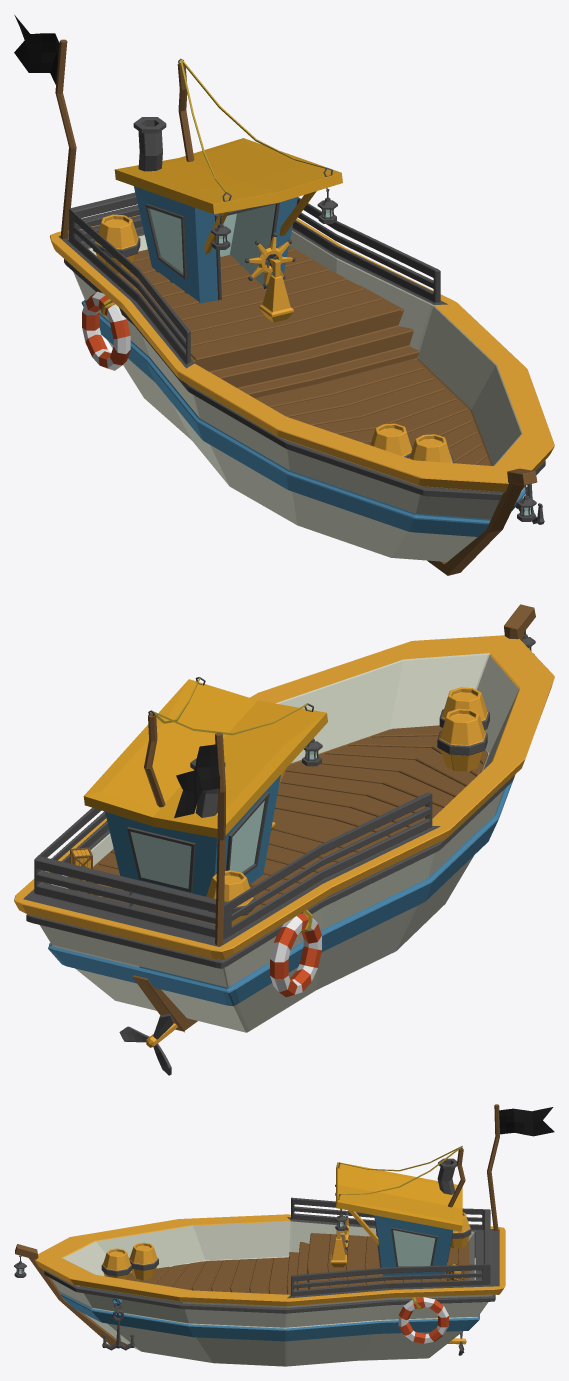
File: Etire_boat.glb
The picture shows the model from 3 angles, top to bottom: view 1: azimuth 30°, elevation 25°; view 2: azimuth 150°, elevation 25°; view 3: azimuth 270°, elevation 25°; orthographic projection. The views are drawn at different scales.
Visible parts, largest first — view 1: hull, Cabin, Support, Float, Keel, Flag, Flag_base, Barrel_03, Chimney, Timon_base, Barrel_01, Timon (+5 smaller); view 2: hull, Cabin, Support, Float, Barrel_01, Flag, Keel, Flag_base, Propeller, Barrel_02, Barrel_03, String_base (+2 smaller); view 3: hull, Cabin, Support, Float, Flag, Keel, Barrel_01, Barrel_02, Flag_base, Chimney, String, anchor (+3 smaller).
Boxes of the visible parts, x1=… form: hull: x1=50, y1=192, x2=554, y2=561; Cabin: x1=114, y1=138, x2=342, y2=303; Support: x1=64, y1=259, x2=545, y2=500; Float: x1=82, y1=291, x2=130, y2=370; Keel: x1=427, y1=468, x2=537, y2=575; Flag: x1=14, y1=15, x2=59, y2=84; Flag_base: x1=55, y1=39, x2=76, y2=238; Barrel_03: x1=93, y1=214, x2=140, y2=273; Chimney: x1=133, y1=117, x2=166, y2=171; Timon_base: x1=259, y1=259, x2=293, y2=322; Barrel_01: x1=370, y1=423, x2=412, y2=457; Timon: x1=245, y1=232, x2=295, y2=287; hull: x1=14, y1=635, x2=554, y2=1032; Cabin: x1=83, y1=679, x2=327, y2=910; Support: x1=26, y1=775, x2=514, y2=968; Float: x1=270, y1=913, x2=321, y2=997; Barrel_01: x1=437, y1=708, x2=487, y2=772; Flag: x1=174, y1=744, x2=220, y2=818; Keel: x1=132, y1=604, x2=535, y2=1032; Flag_base: x1=215, y1=732, x2=225, y2=945; Propeller: x1=119, y1=1013, x2=177, y2=1075; Barrel_02: x1=439, y1=687, x2=489, y2=730; Barrel_03: x1=206, y1=870, x2=255, y2=925; String_base: x1=144, y1=713, x2=165, y2=807; hull: x1=35, y1=1197, x2=505, y2=1366; Cabin: x1=336, y1=1162, x2=462, y2=1276; Support: x1=44, y1=1270, x2=495, y2=1313; Float: x1=398, y1=1297, x2=448, y2=1343; Flag: x1=499, y1=1107, x2=554, y2=1136; Keel: x1=15, y1=1244, x2=127, y2=1345; Barrel_01: x1=129, y1=1242, x2=158, y2=1280; Barrel_02: x1=101, y1=1248, x2=132, y2=1279; Flag_base: x1=487, y1=1104, x2=499, y2=1230; Chimney: x1=437, y1=1158, x2=457, y2=1194; String: x1=340, y1=1146, x2=461, y2=1194; anchor: x1=102, y1=1299, x2=134, y2=1350.
Bounding box in the file's own units: 0.7232 × 0.8793 × 1.9.
